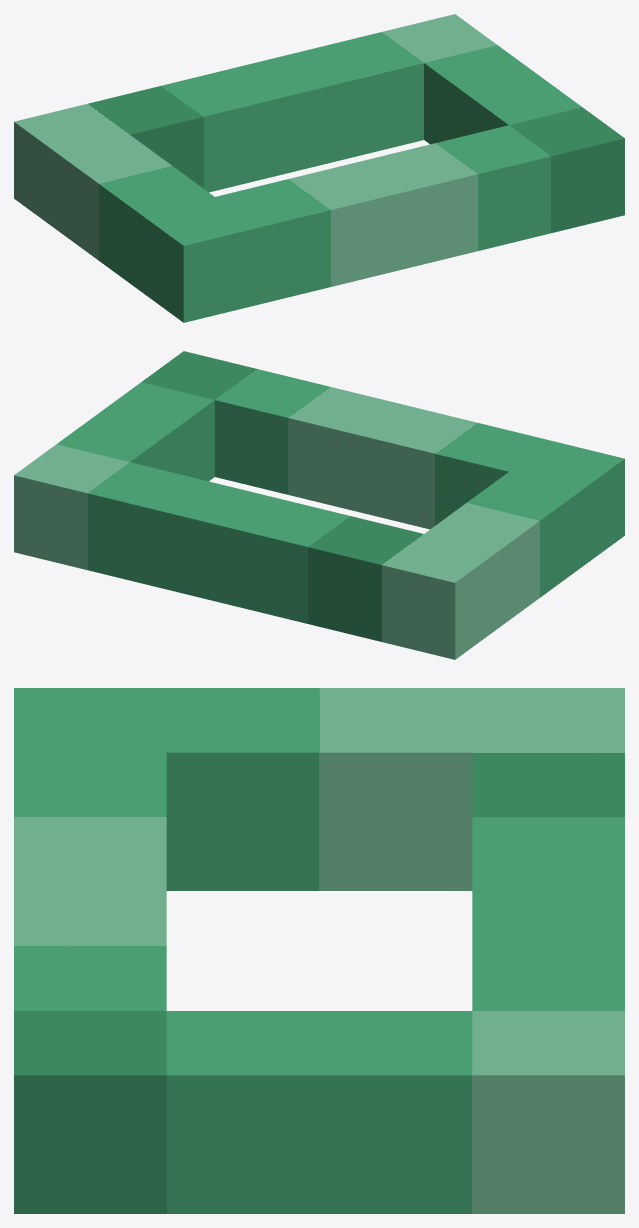
The model's file is vine_circle.fbx.
3 renders of one model, top to bottom at view 1: azimuth 30°, elevation 25°; view 2: azimuth 150°, elevation 25°; view 3: azimuth 270°, elevation 25°, orthographic. The views are drawn at different scales.
Visible parts, largest first — view 1: vine_circle; view 2: vine_circle; view 3: vine_circle.
Boxes of the visible parts, box(x1,y1,x2,y2) form: vine_circle: box(14, 14, 624, 322); vine_circle: box(14, 351, 624, 659); vine_circle: box(14, 688, 624, 1213).
Size of the model in its own units: 6 by 1 by 4.
Materials: 1 (1 with a texture image).
